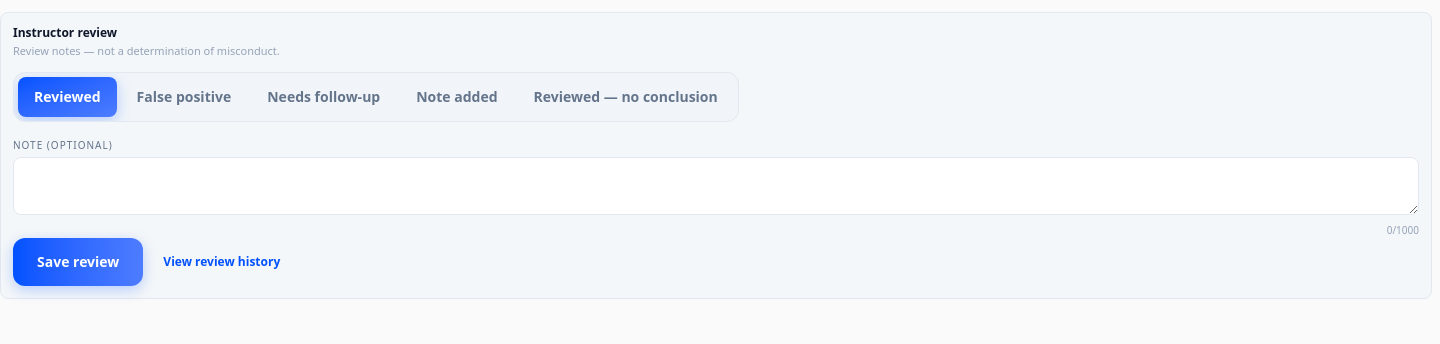
Scenario: AlertReviewForm history disclosure (§3.4) › shows the honest failure state when history cannot load
This screenshot has width=1440, height=344.
Click the button "View review history" at (222, 262), box 155,250 -> 288,274
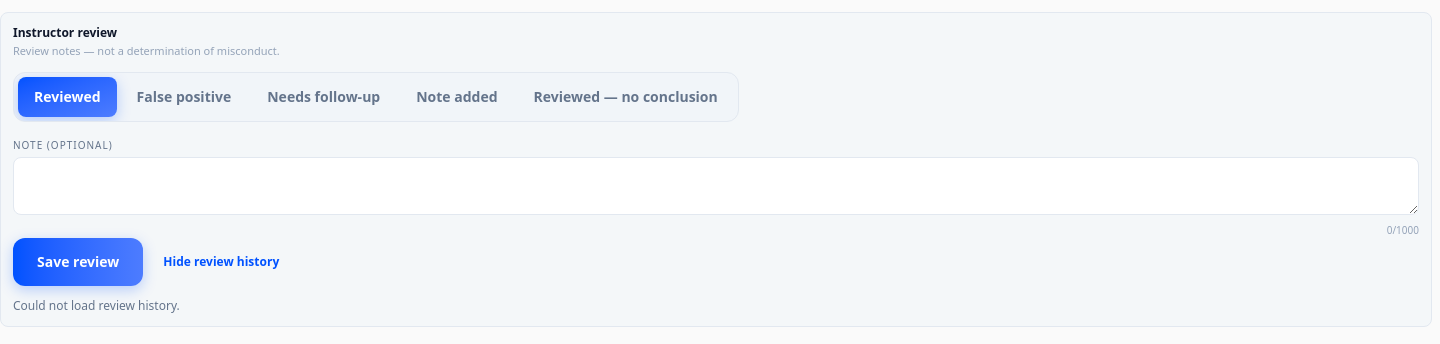
Expected: the text "Could not load review history." is shown, 13,296 -> 180,314
